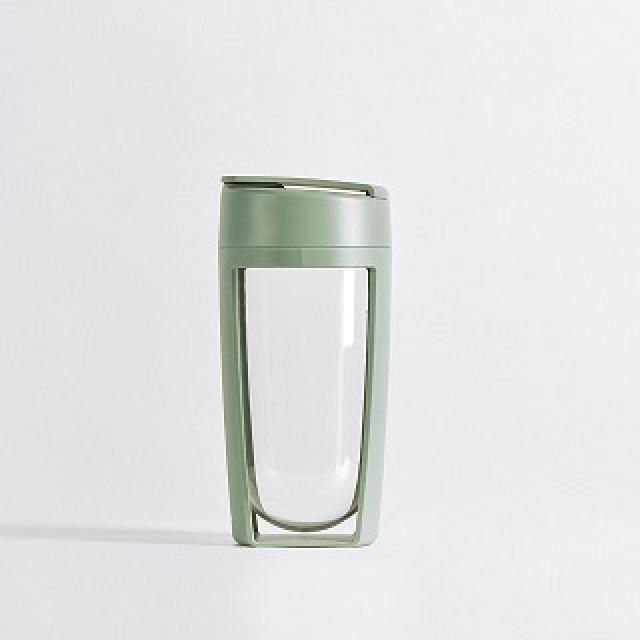Plastic: (214, 173, 392, 550)
